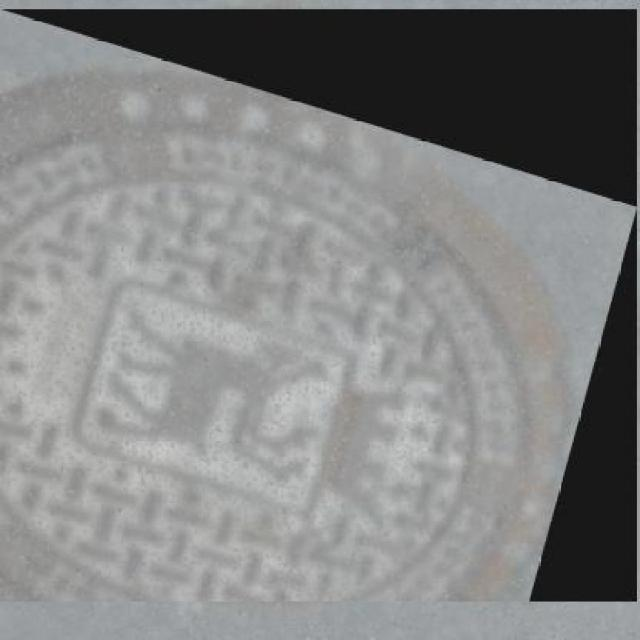Manhole: (0, 9, 637, 602)
